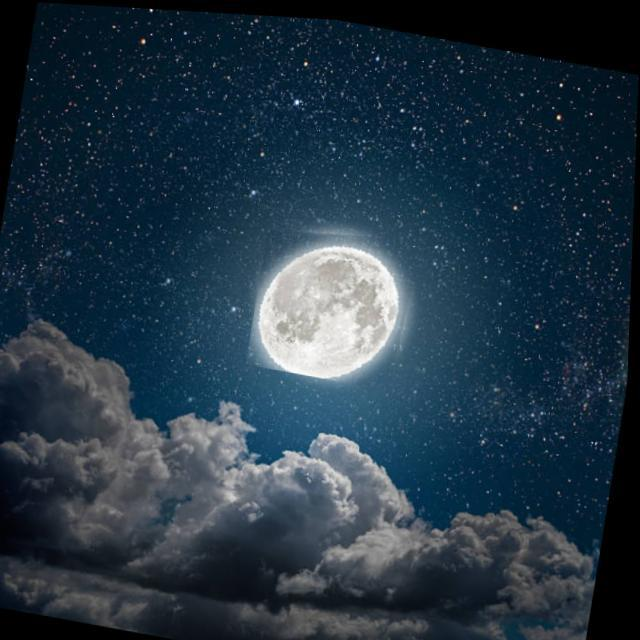moon: (247, 208, 424, 388)
